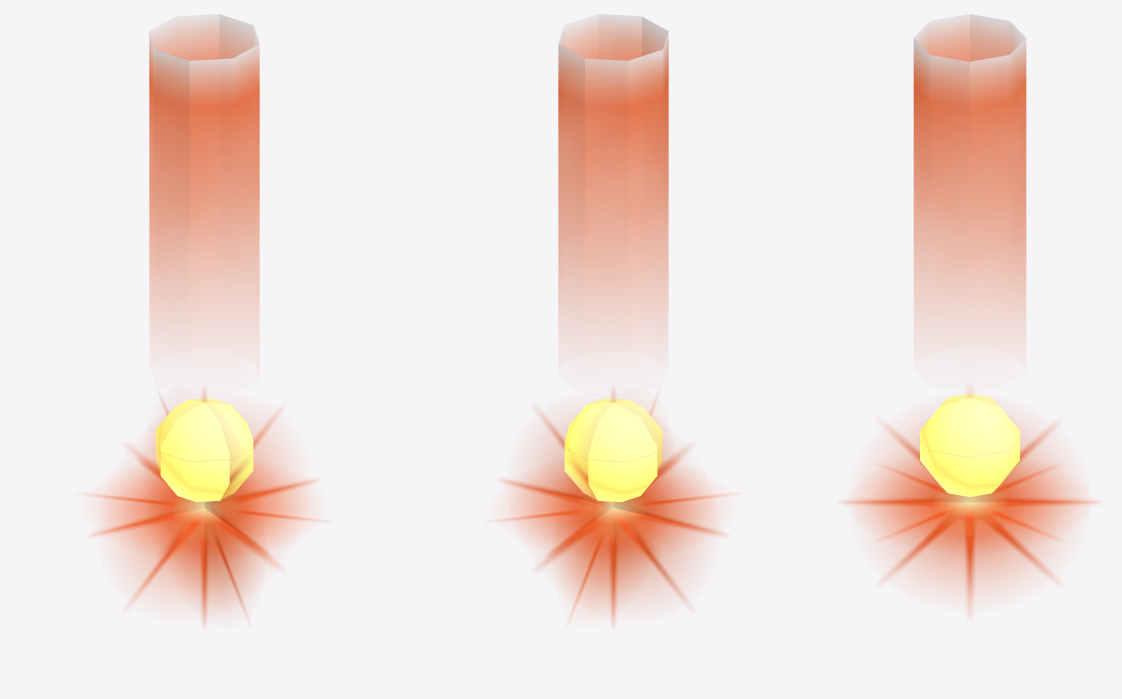
Rendered from fx_rain_fire.glb.
3 renders of one model, left to right at view 1: azimuth 30°, elevation 25°; view 2: azimuth 150°, elevation 25°; view 3: azimuth 270°, elevation 25°, orthographic.
Parts seen in each view (by area): view 1: fx_fire_trail, fx_fire_glow, fx_core; view 2: fx_fire_trail, fx_fire_glow, fx_core; view 3: fx_fire_trail, fx_fire_glow, fx_core.
Boxes of the visible parts, bbox=[...] form: fx_fire_trail: bbox=[149, 14, 259, 461]; fx_fire_glow: bbox=[87, 391, 320, 624]; fx_core: bbox=[155, 398, 253, 501]; fx_fire_trail: bbox=[558, 14, 668, 461]; fx_fire_glow: bbox=[497, 391, 730, 624]; fx_core: bbox=[564, 398, 662, 501]; fx_fire_trail: bbox=[913, 14, 1026, 457]; fx_fire_glow: bbox=[843, 394, 1096, 610]; fx_core: bbox=[920, 394, 1019, 496].
Size of the model in its own units: 2.2 by 5.2 by 2.2.
3 materials, 2 textured.
